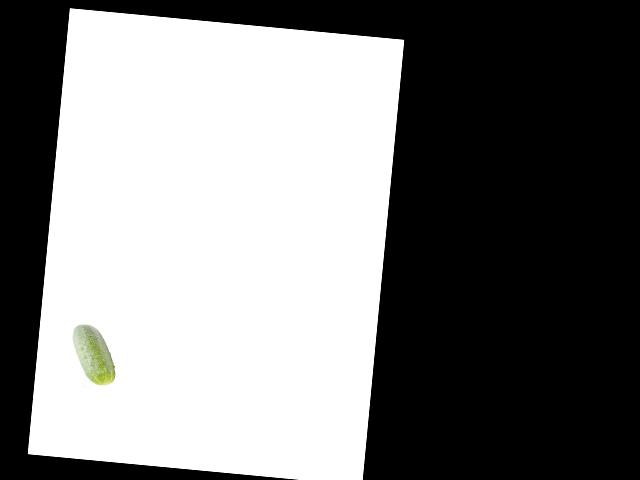cucumber: (68, 322, 119, 386)
